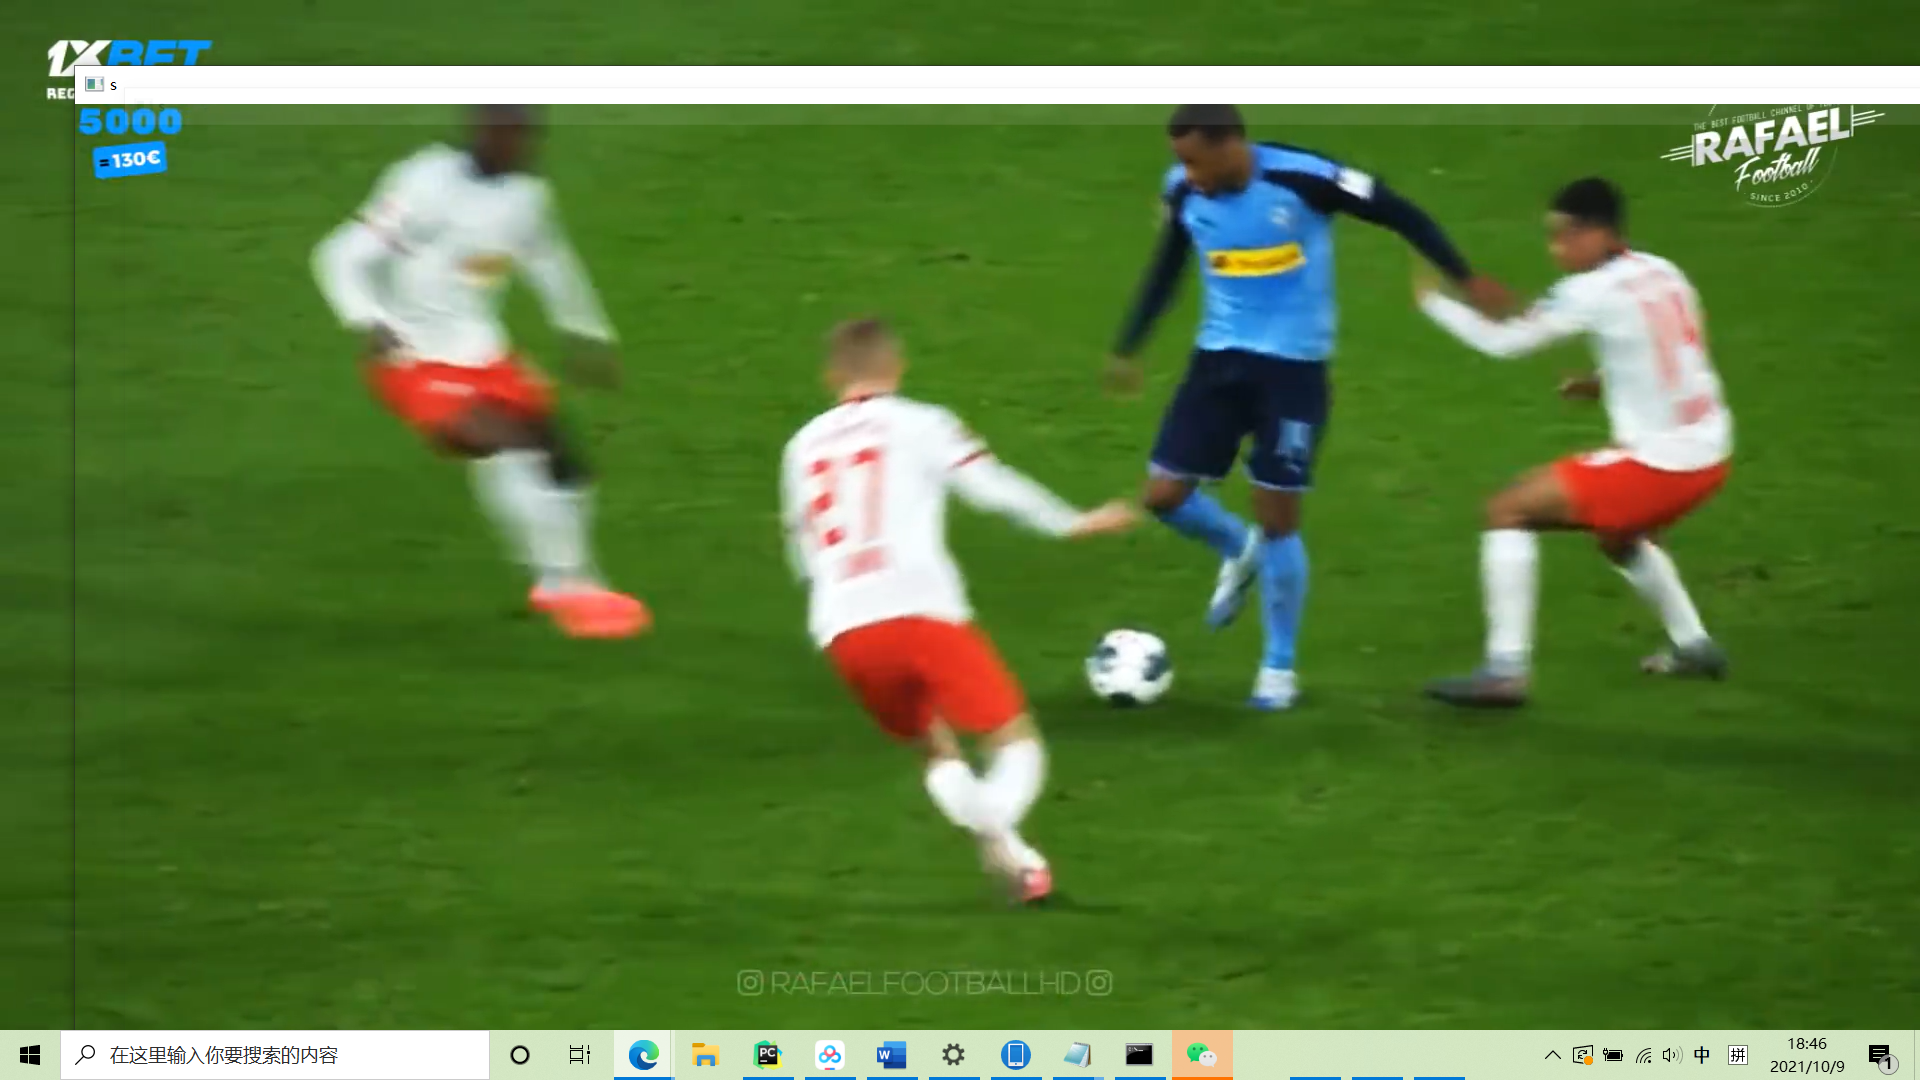ft: (1077, 628, 1178, 709)
